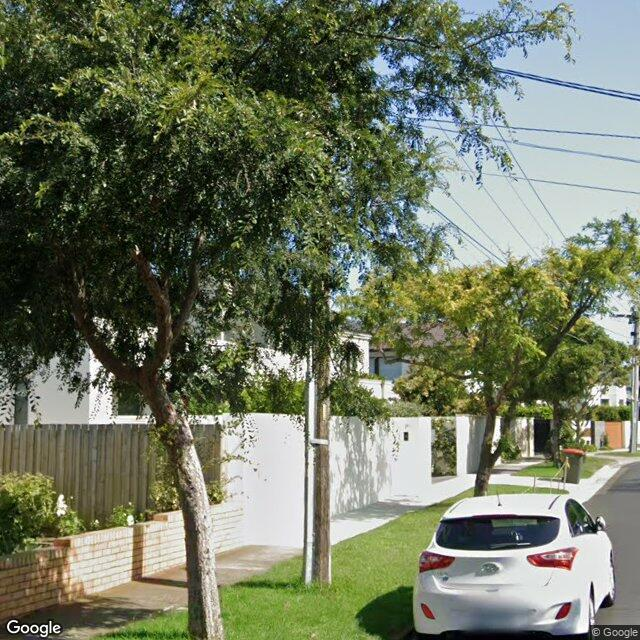timber-pole: (310, 344, 332, 586), (628, 320, 640, 453)
